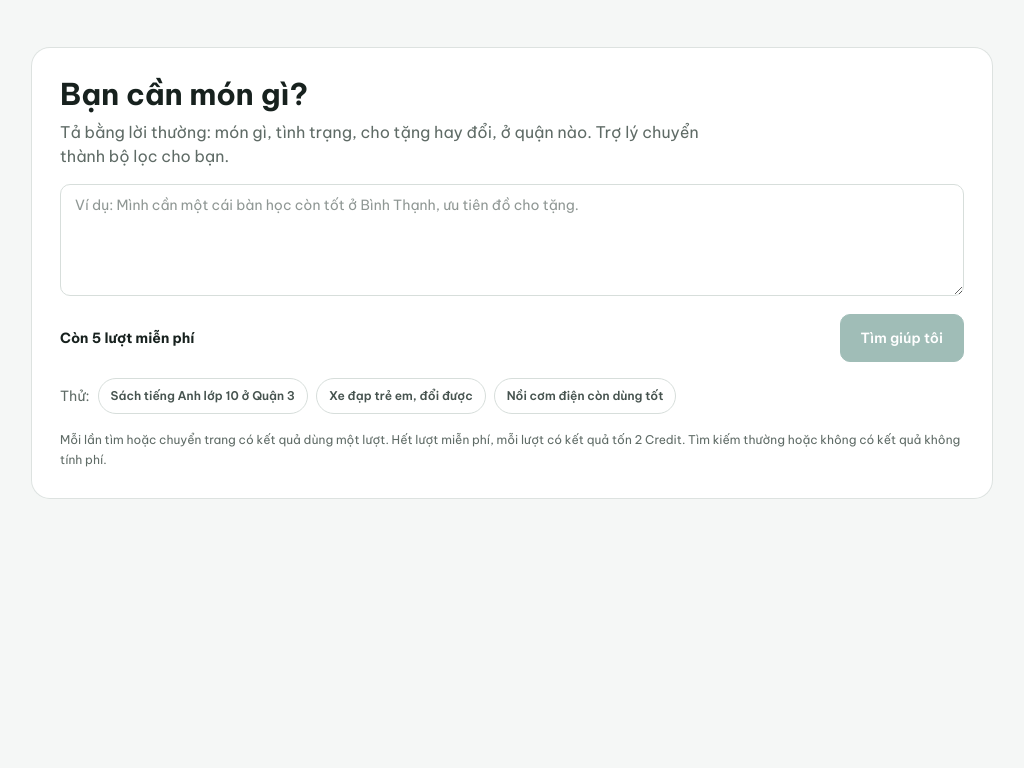
Test: AI search quota › giải thích khi kết quả được mở rộng theo từ khóa
In the text box named "Mô tả món đồ cần tìm": (512, 240) [60, 184, 964, 296], type "bàn học"
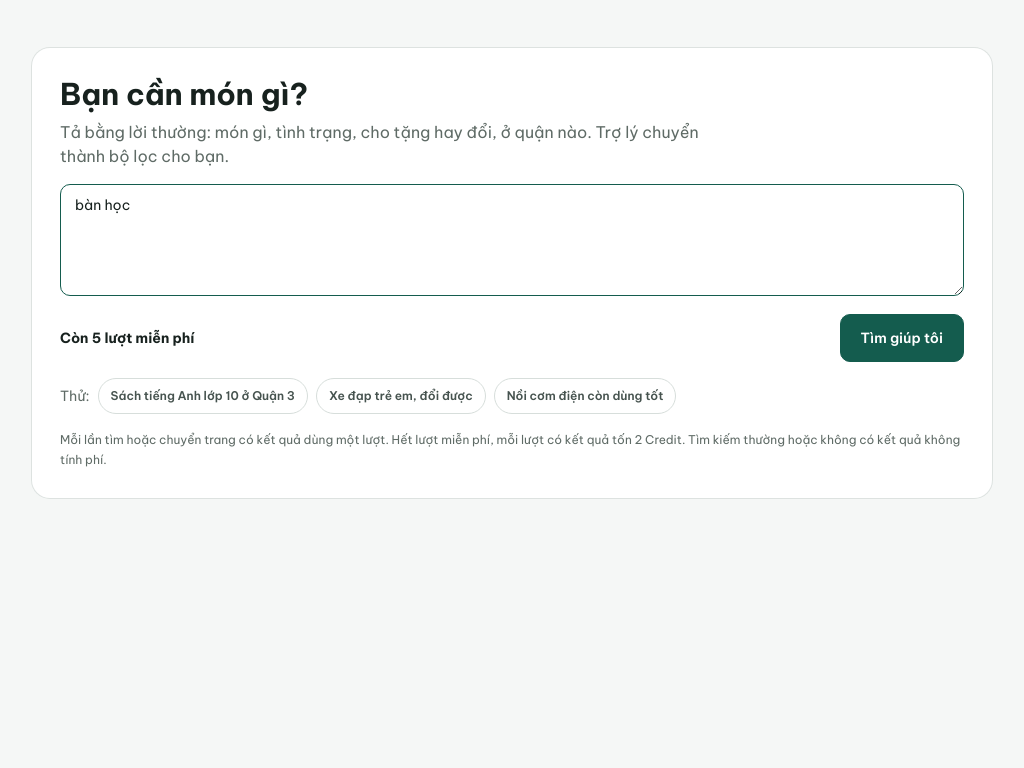
Click the button "Tìm giúp tôi": (902, 338) [840, 314, 964, 362]
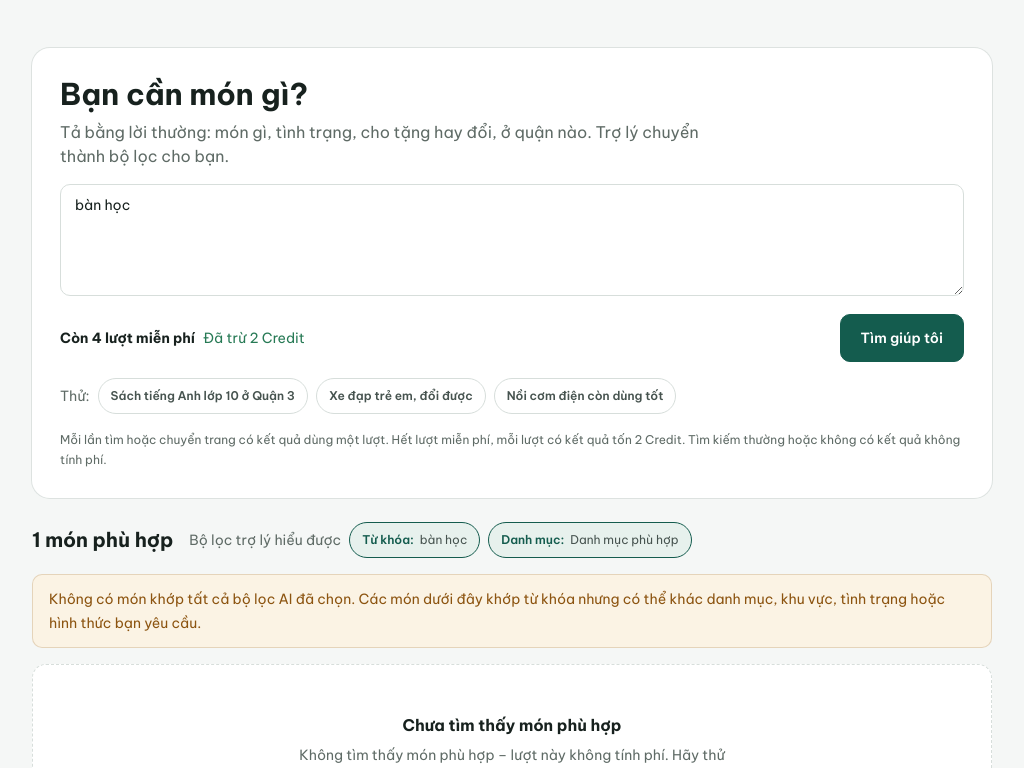
Result: the text "Không có món khớp tất cả bộ lọc AI đã chọn" is shown at [49, 590, 945, 632]
Result: the text "Bộ lọc trợ lý hiểu được" is shown at [189, 530, 341, 550]
